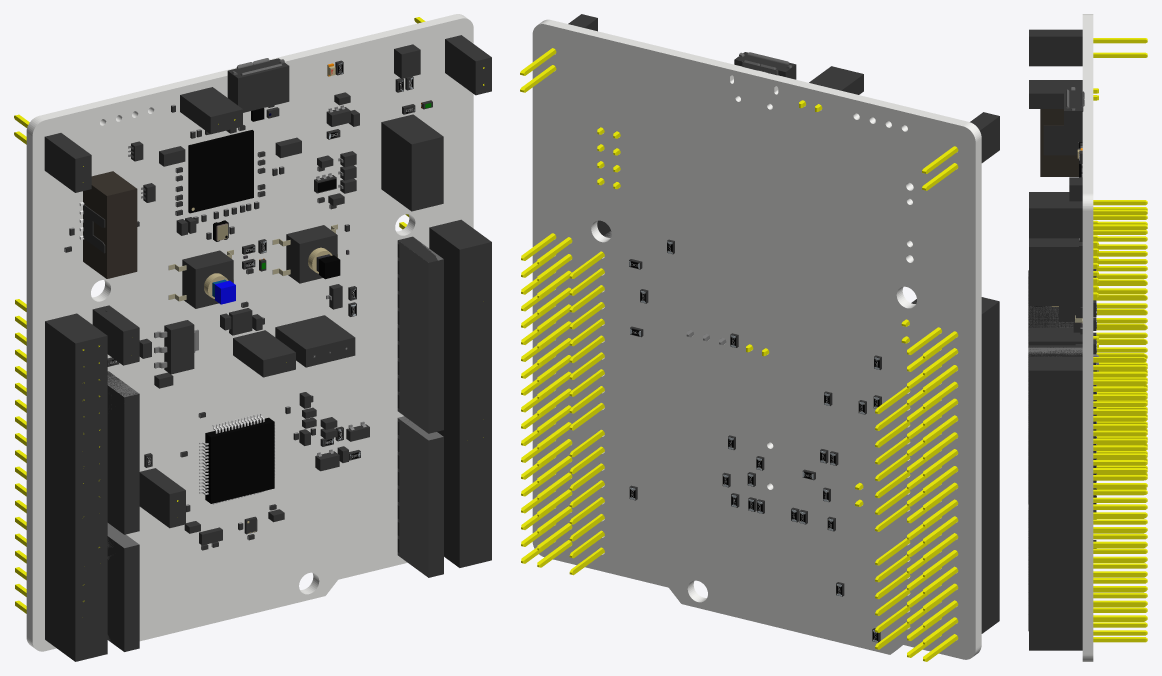
File: nucleo-64.glb
The picture shows the model from 3 angles, left to right: view 1: azimuth 30°, elevation 25°; view 2: azimuth 150°, elevation 25°; view 3: azimuth 270°, elevation 25°; orthographic projection. The views are drawn at different scales.
Size of the model in its own units: 70 by 83.65 by 18.67.
